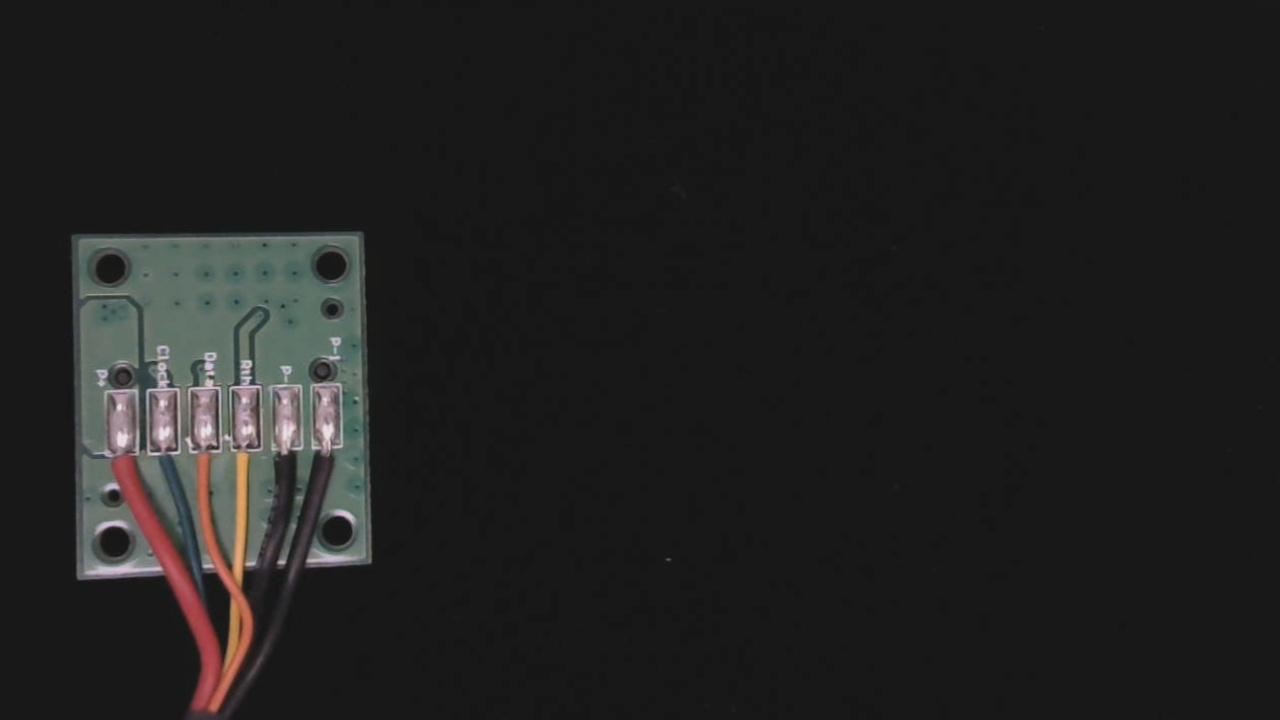Black: (276, 432, 310, 498)
Black1: (317, 431, 353, 500)
Green: (145, 435, 182, 495)
Orange: (189, 434, 222, 497)
Red: (101, 437, 139, 509)
Yellow: (233, 434, 270, 498)
